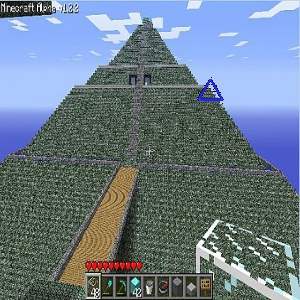triangle: (197, 75, 225, 102)
